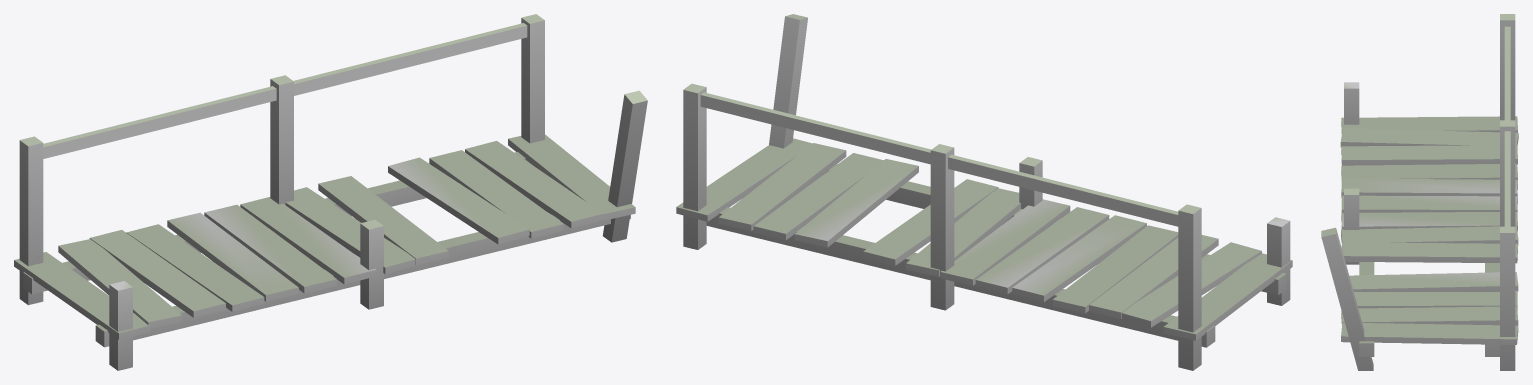
The model's file is bridge_planks.glb.
The picture shows the model from 3 angles, left to right: view 1: azimuth 30°, elevation 25°; view 2: azimuth 150°, elevation 25°; view 3: azimuth 270°, elevation 25°; orthographic projection. The views are drawn at different scales.
Visible parts, largest first — view 1: bridge_planks; view 2: bridge_planks; view 3: bridge_planks.
Part boxes in pixels (x1,y1,x2,y2): bridge_planks: [14, 14, 647, 370]; bridge_planks: [676, 14, 1292, 370]; bridge_planks: [1321, 14, 1518, 370].
Bounding box in the file's own units: 4.21 × 1.21 × 1.57.
